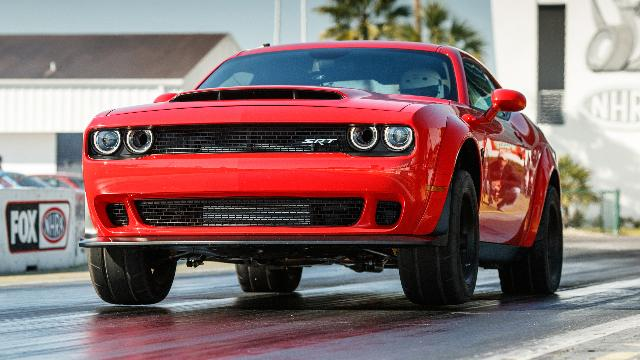dodge: (77, 40, 563, 306)
